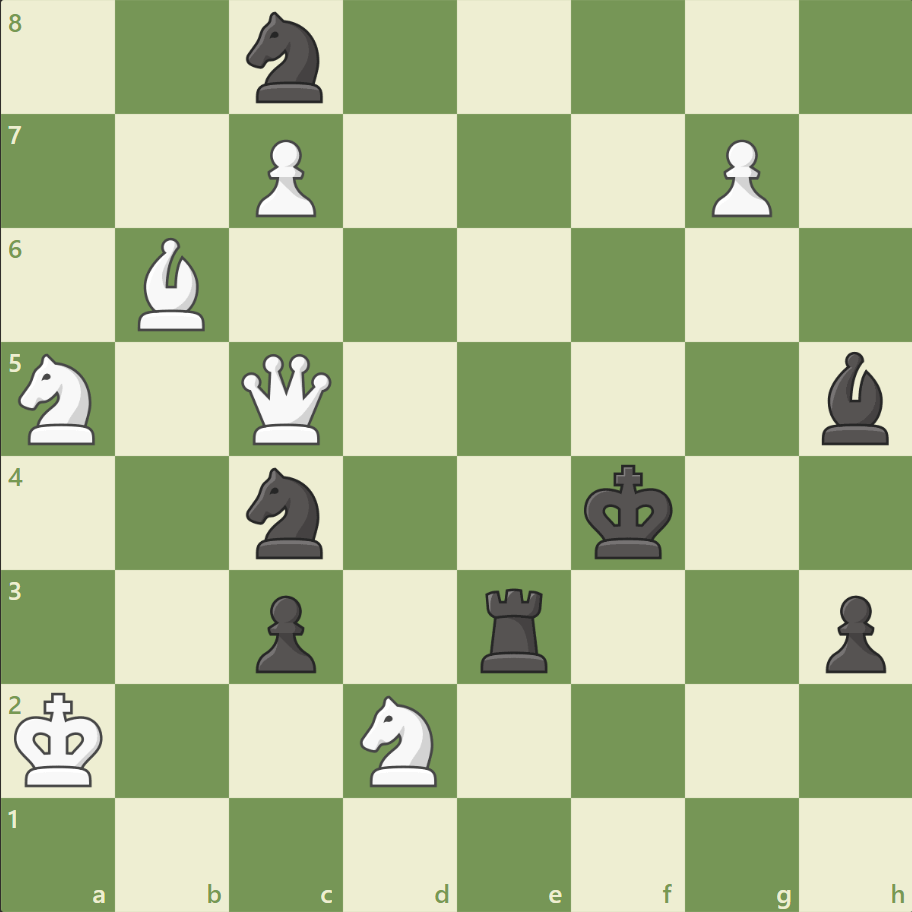B: (131, 233, 215, 336)
K: (11, 685, 111, 793)
N: (351, 688, 449, 791), (11, 348, 108, 450)
P: (247, 132, 322, 223), (701, 132, 776, 223)
Q: (237, 349, 336, 449)
b: (812, 347, 896, 449)
k: (579, 458, 679, 566)
n: (238, 7, 335, 110), (238, 461, 335, 564)
p: (247, 586, 322, 677), (815, 586, 889, 677)
r: (473, 579, 556, 676)
